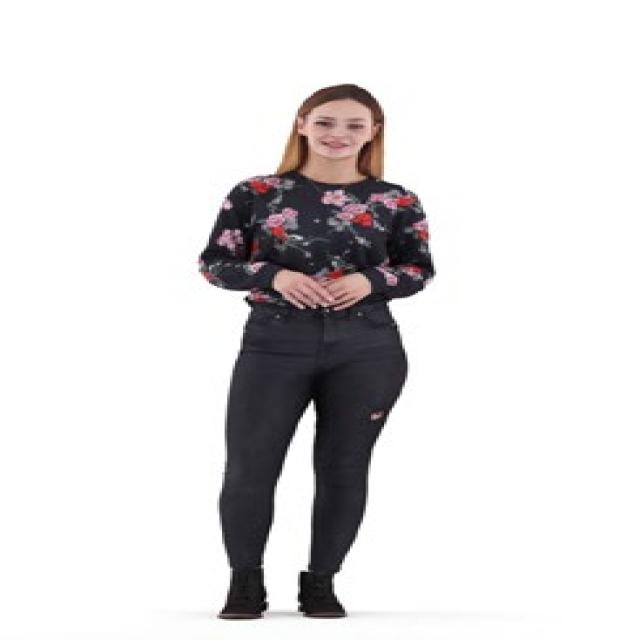standing: (194, 79, 441, 624)
